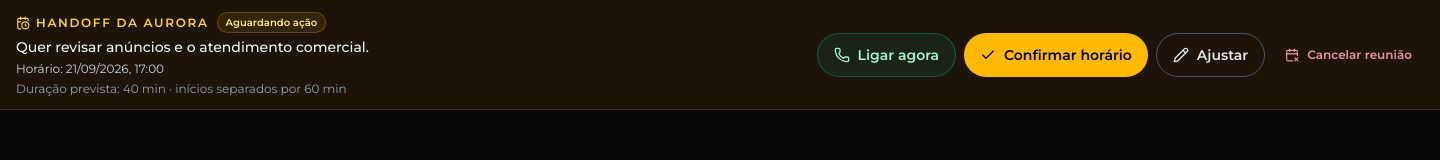
Scenario: ConversationHandoffCard — cancelar reunião › o primeiro clique só pede confirmação — não dispara nada
The image size is (1440, 160).
Click the button "Cancelar reunião". click: {"x": 1349, "y": 54}
box: [1273,32,1424,76]
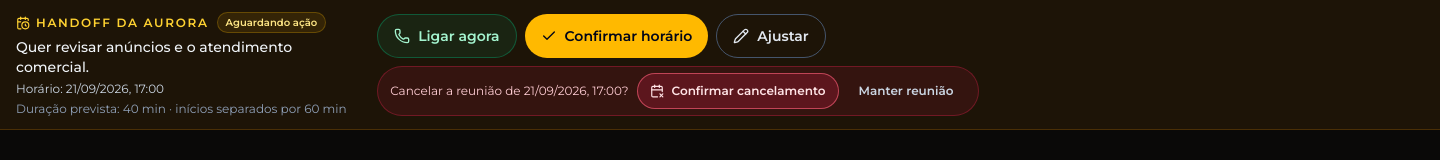
Expected: the button "Confirmar horário" is shown, [525,14,708,58]
Expected: the button "Confirmar cancelamento" is shown, [636,72,838,108]
